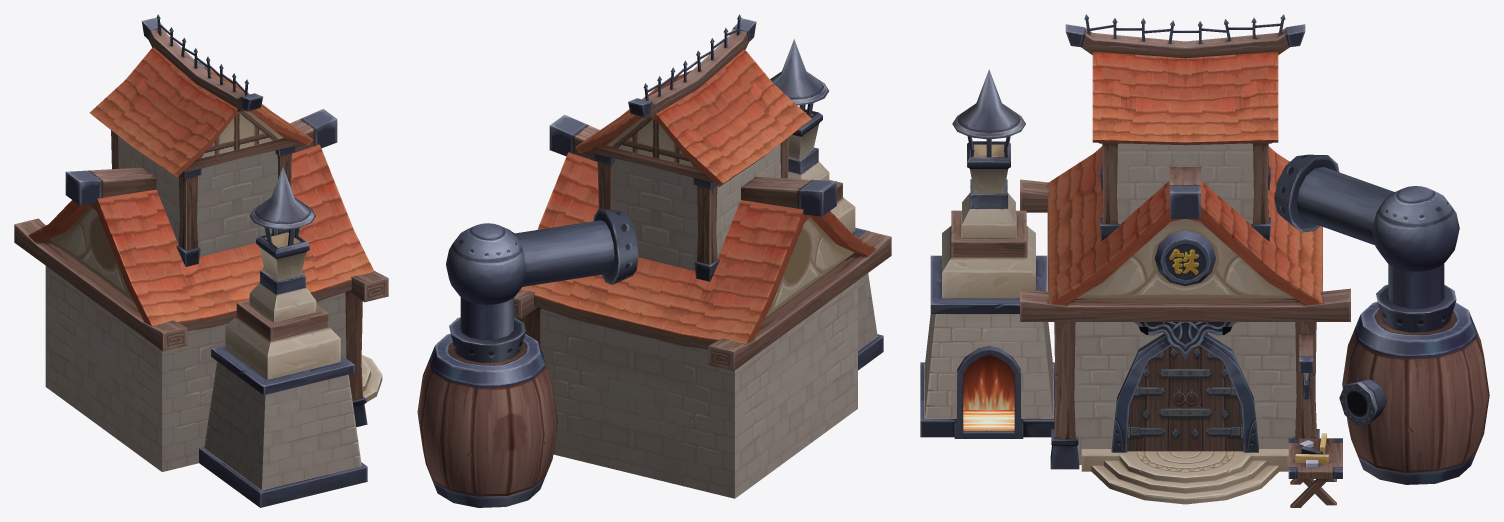
Rendered from zhucheng_tiejiangpu.FBX.
3 views of the same model, side by side, from view 1: azimuth 30°, elevation 25°; view 2: azimuth 150°, elevation 25°; view 3: azimuth 270°, elevation 25° (orthographic). The views are drawn at different scales.
Parts seen in each view (by area): view 1: zhucheng_tiejiangpu; view 2: zhucheng_tiejiangpu; view 3: zhucheng_tiejiangpu.
Boxes of the visible parts, box(x1,y1,x2,y2) form: zhucheng_tiejiangpu: box(14, 14, 388, 507); zhucheng_tiejiangpu: box(417, 14, 891, 507); zhucheng_tiejiangpu: box(920, 14, 1489, 507).
Bounding box in the file's own units: 771 × 888 × 1136.
